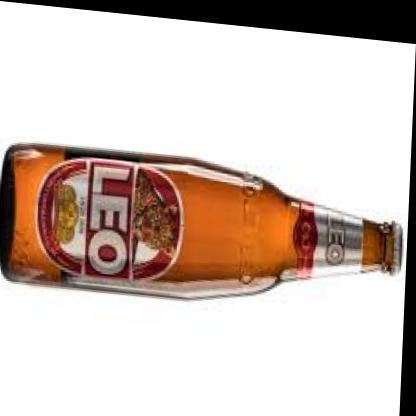trash: (0, 144, 401, 297)
